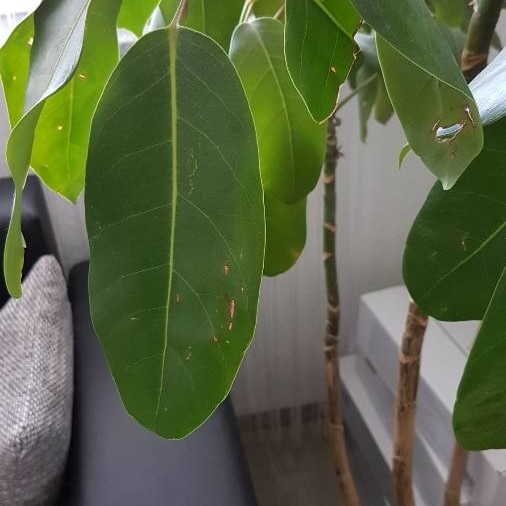obstacle: (67, 25, 469, 410)
